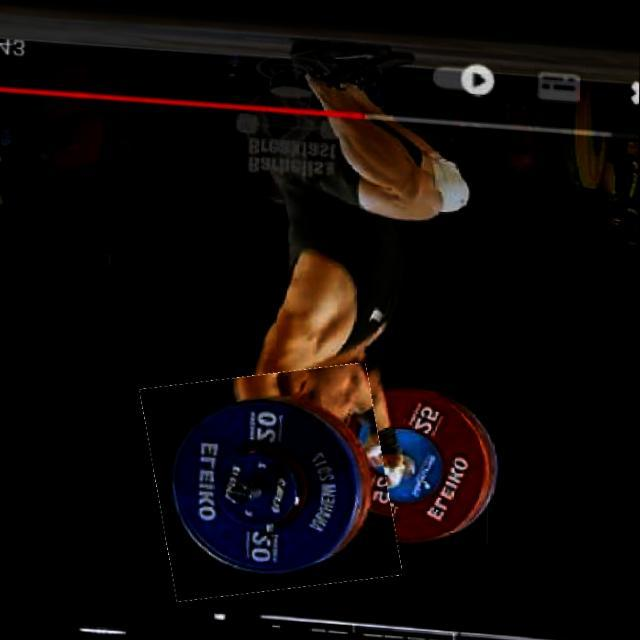barbell: (148, 355, 398, 602)
